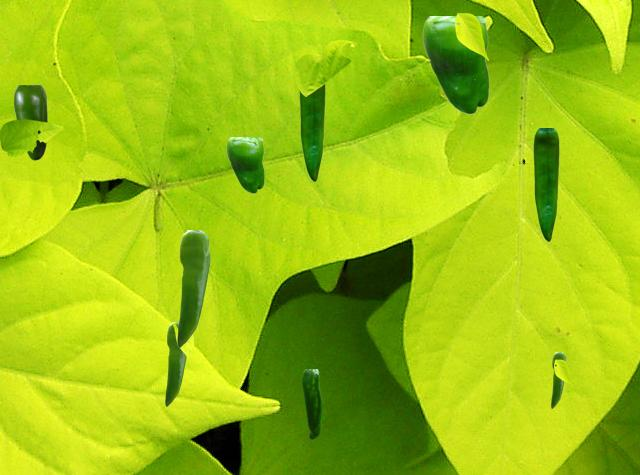green_chili: (422, 16, 488, 113), (177, 230, 209, 346), (533, 128, 558, 240), (299, 85, 324, 180), (14, 85, 46, 159), (226, 137, 263, 192), (165, 322, 186, 405), (302, 369, 320, 438), (551, 352, 565, 407)
